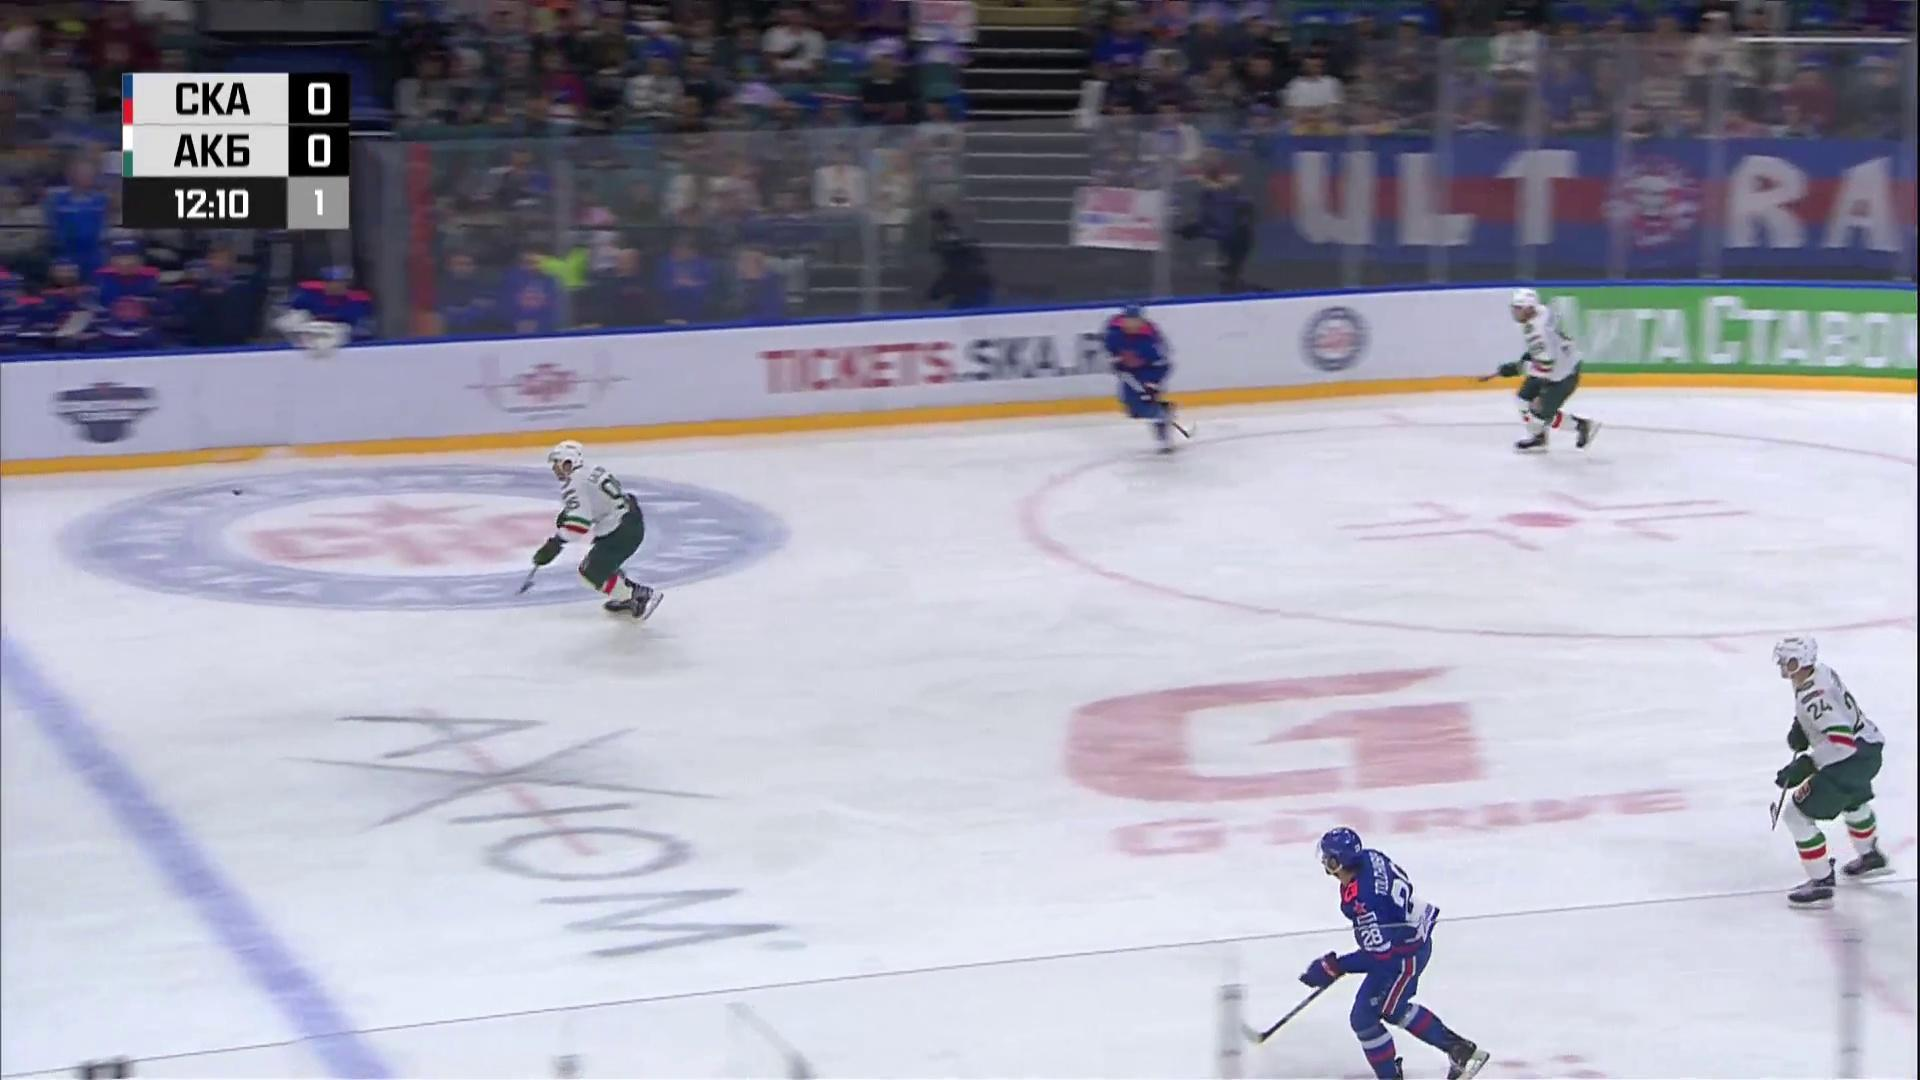ball: (232, 488, 241, 496)
